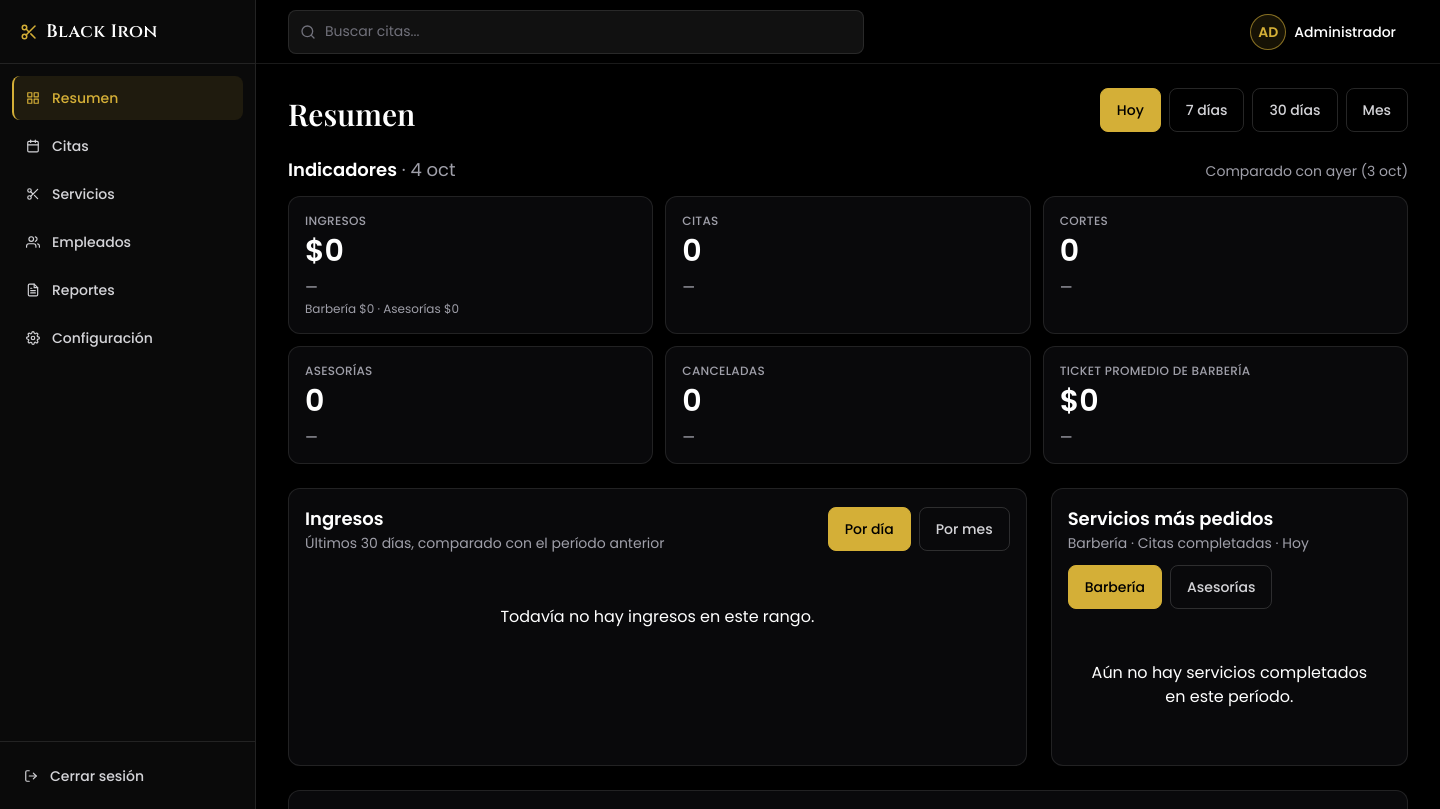
Scenario: AdminLayout: Cerrar sesión desde el menú de usuario › el menú ofrece Cambiar contraseña y Cerrar sesión, ambos de al menos 44 px (min-h-11)
Click the button with aria-label "Menú de usuario" at (1329, 32), box [1250,10,1408,54]
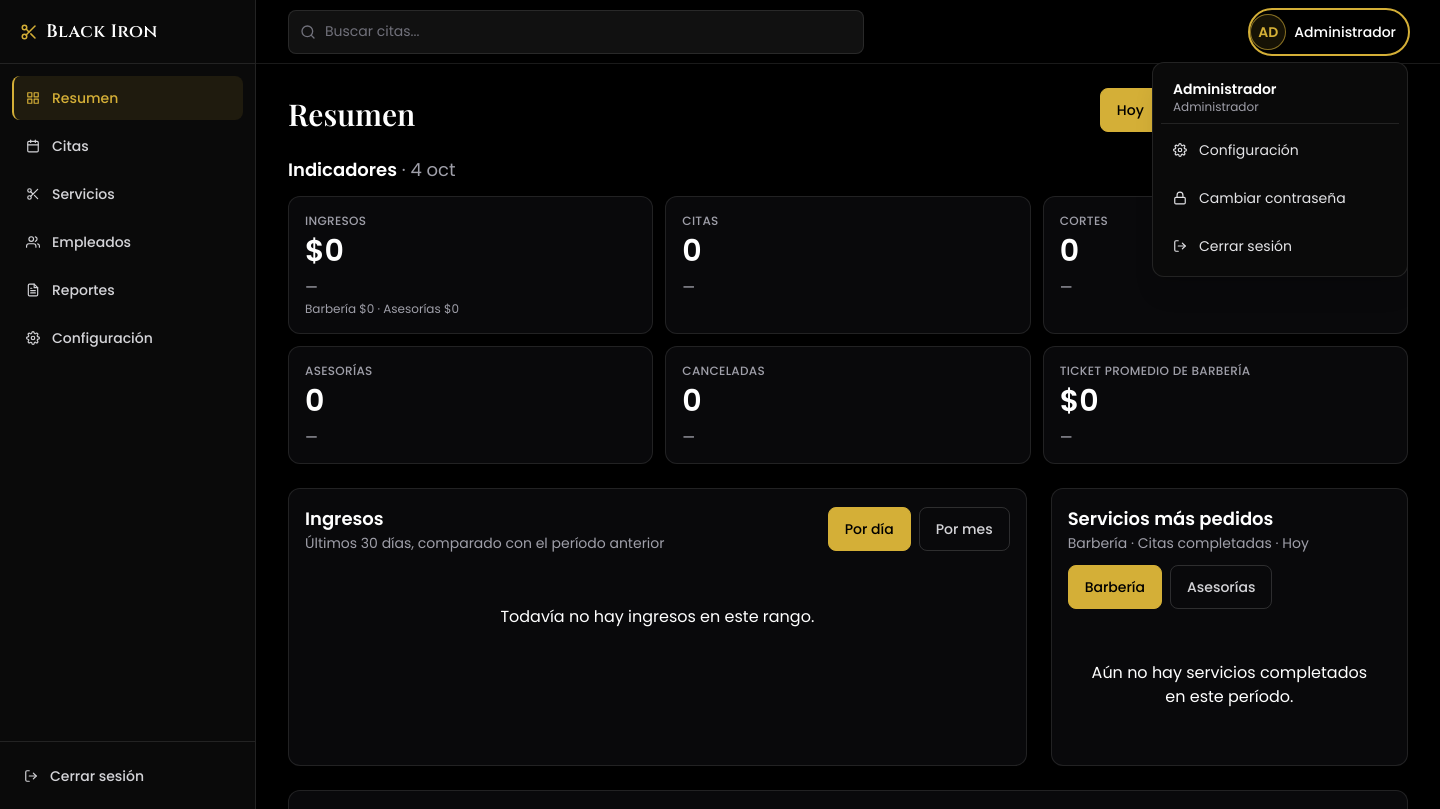
Now the buttons read "Cambiar contraseña", "Cerrar sesión", in this order, box [1161,176,1399,220]; [1161,224,1399,268]
